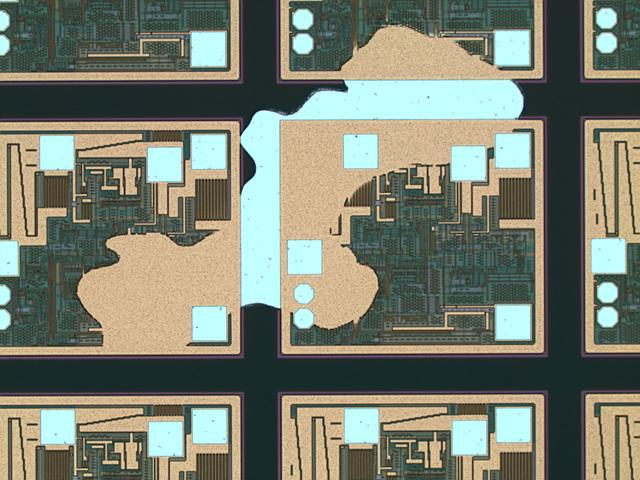BLOCK ETCH: (70, 17, 535, 365)
